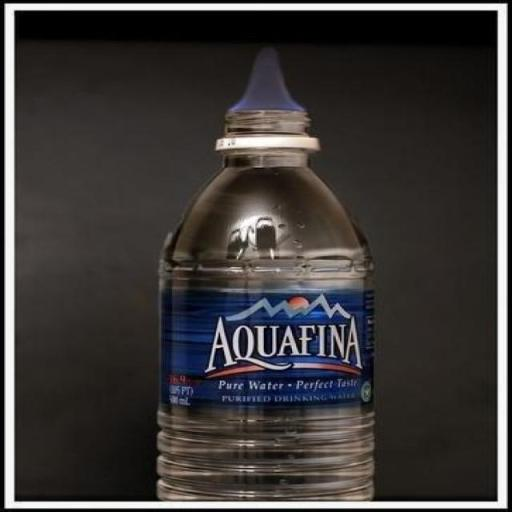plastic: (154, 108, 386, 502)
